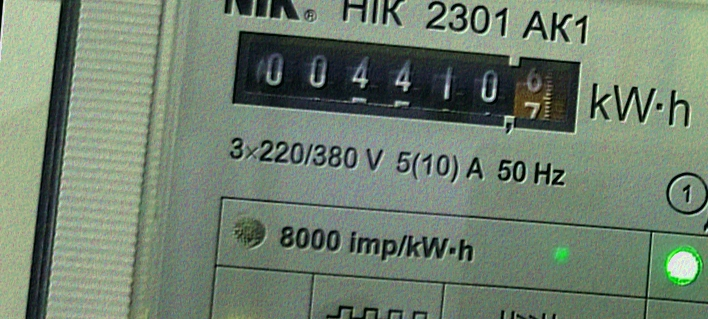0: (261, 49, 285, 89), (477, 68, 500, 105), (307, 51, 327, 91)
1: (438, 64, 454, 102)
4: (390, 56, 415, 96), (348, 51, 372, 91)
6: (525, 67, 544, 94)
7: (520, 100, 541, 121)
screen: (219, 18, 593, 147)
